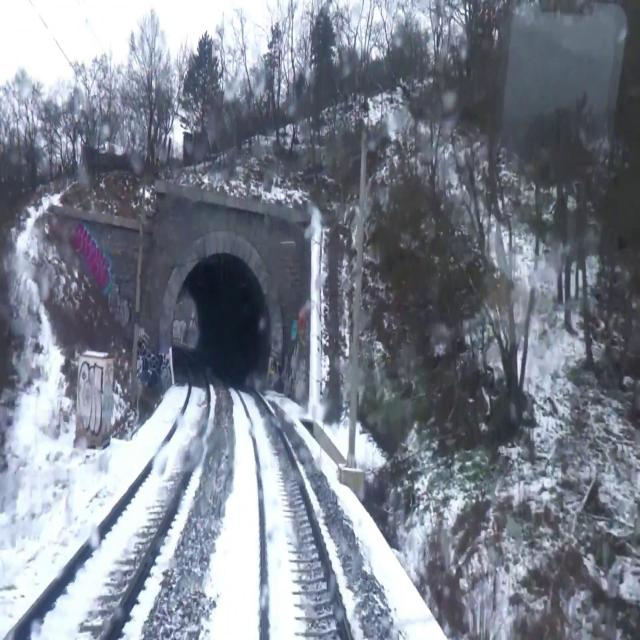rail-track: (10, 356, 206, 639), (221, 367, 347, 639)
